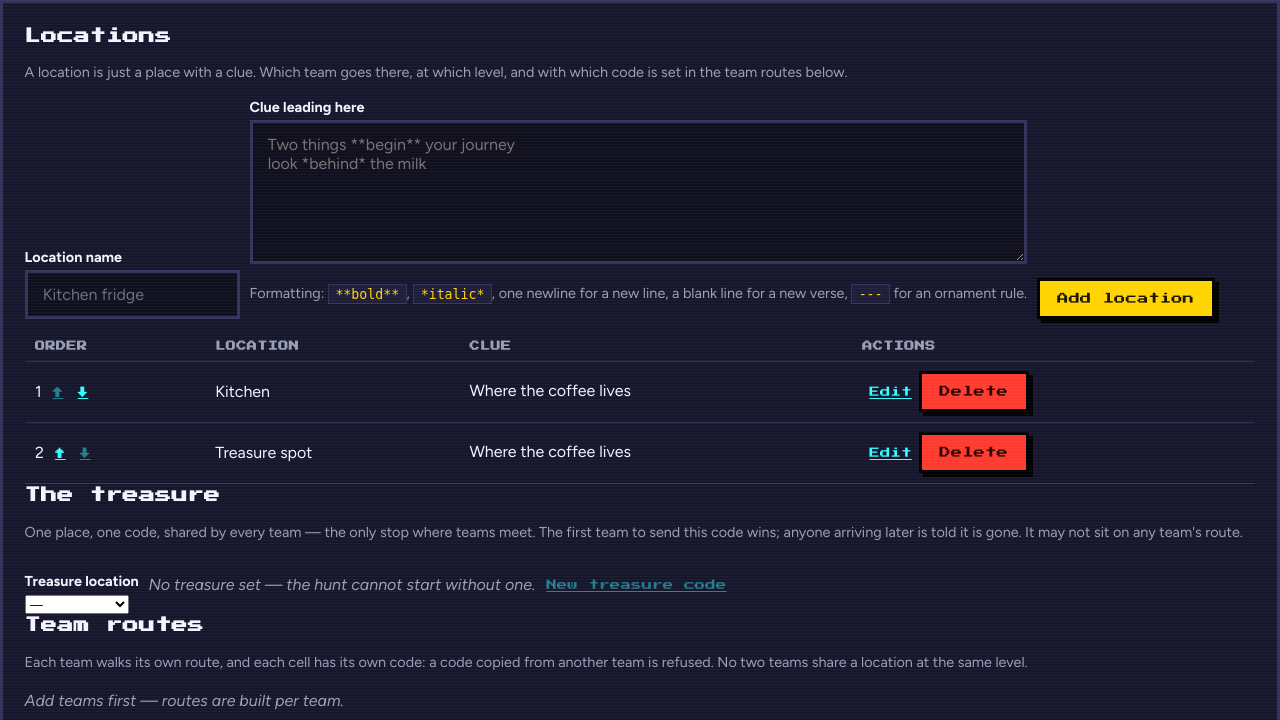
Test case: StationsPanel › surfaces the server refusal when reordering during a running hunt
Click the button "↑" next to "Treasure spot" at (60, 453), box [48,444,73,462]
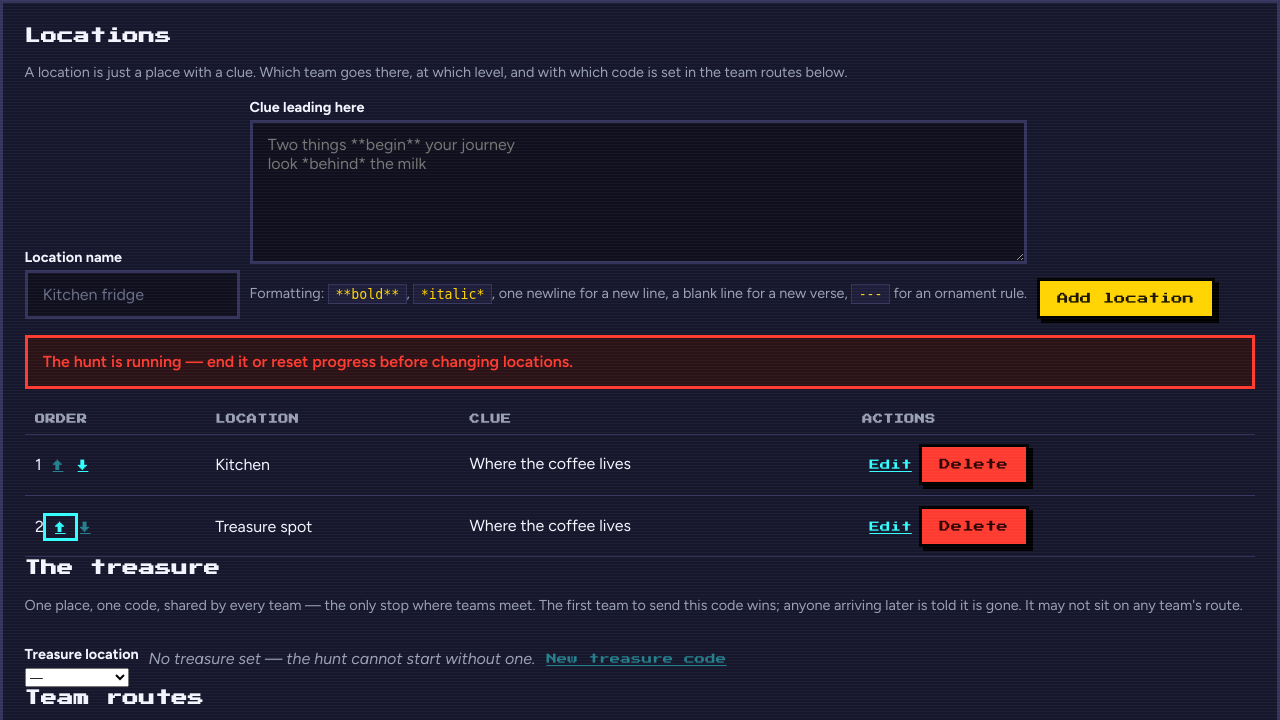
Result: the text "The hunt is running — end it or reset progress before changing locations." is shown at [25,335,1255,389]
